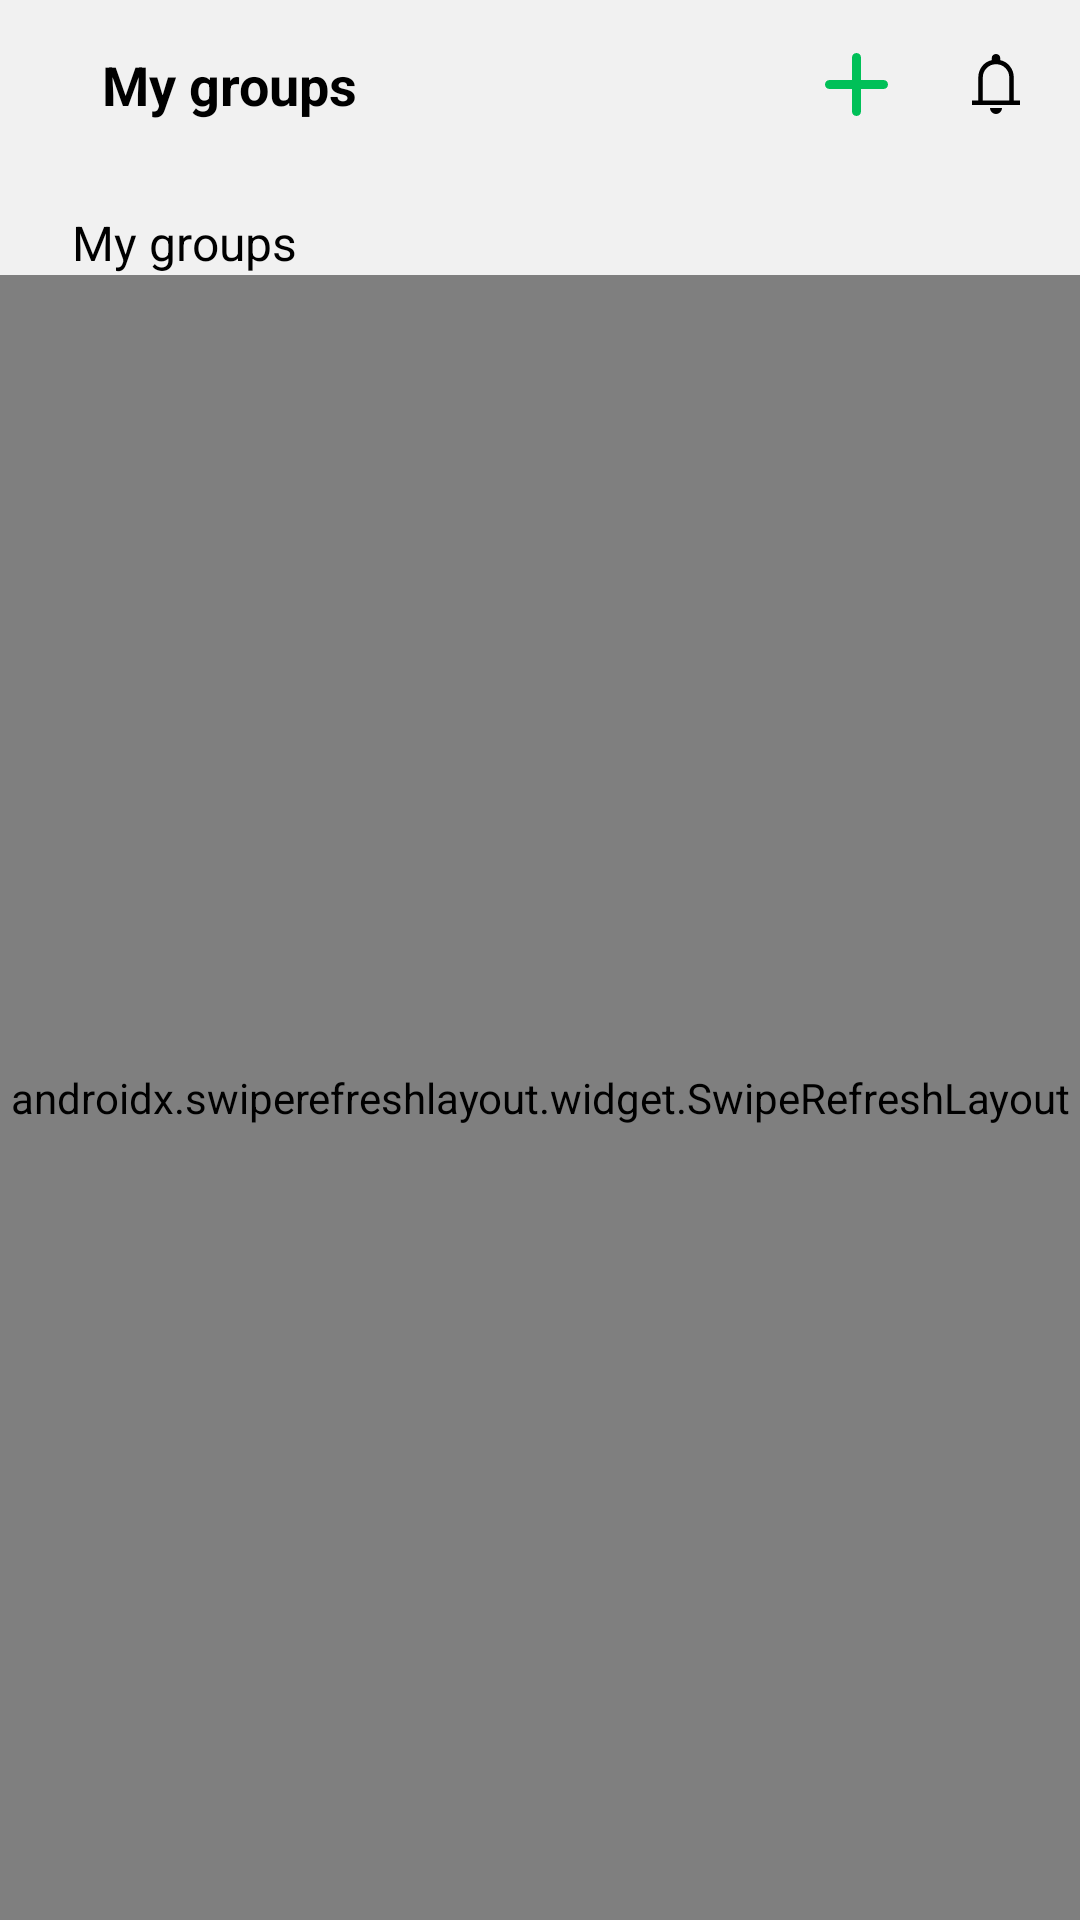

Where to tap for icons on this 1080px x 1920px app screen, as [x,y]:
notification: [996,84]
plus: [856,84]
